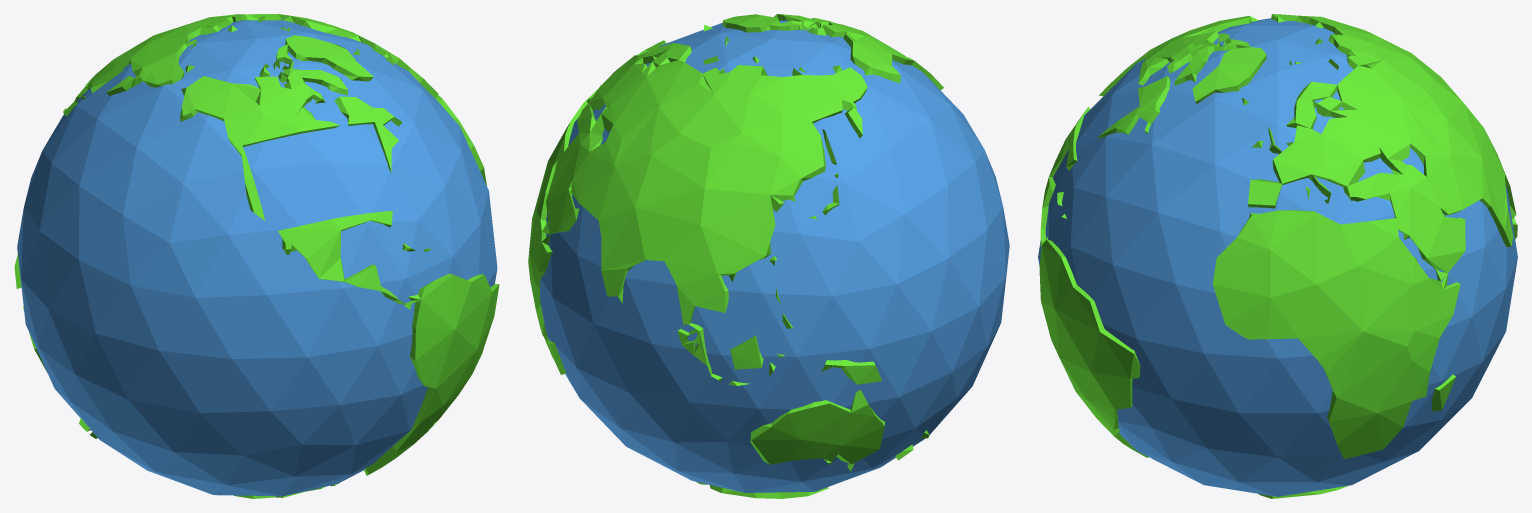
File: earth_2.glb
The picture shows the model from 3 angles, left to right: view 1: azimuth 30°, elevation 25°; view 2: azimuth 150°, elevation 25°; view 3: azimuth 270°, elevation 25°; orthographic projection.
Visible parts, largest first — view 1: Icosphere.001, Sphere.002; view 2: Icosphere.001, Sphere.002; view 3: Icosphere.001, Sphere.002.
Boxes of the visible parts, <box> form: Icosphere.001: <box>17,20,497,496</box>; Sphere.002: <box>14,14,499,498</box>; Icosphere.001: <box>540,20,1009,492</box>; Sphere.002: <box>528,14,943,498</box>; Icosphere.001: <box>1038,18,1517,496</box>; Sphere.002: <box>1039,14,1517,498</box>.
Bounding box in the file's own units: 2.08 × 2.09 × 2.07.
